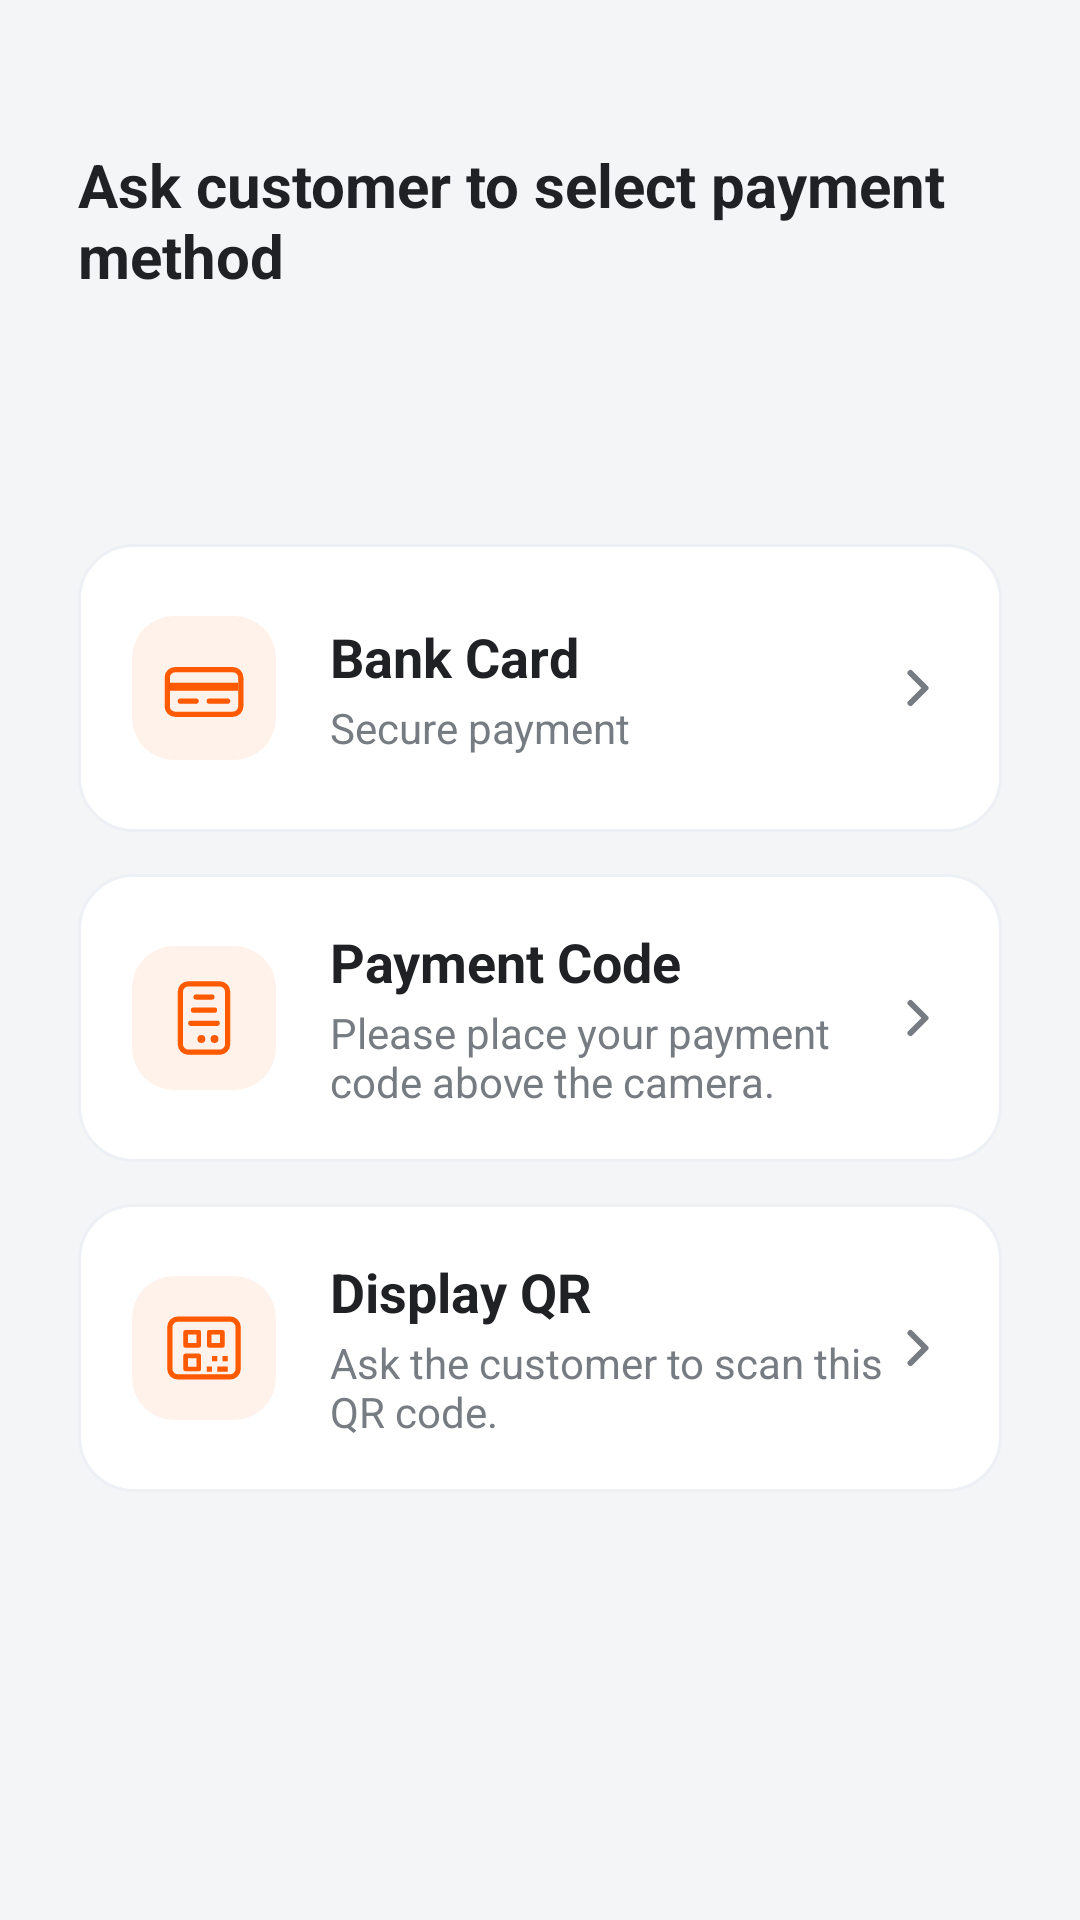

Point at icon controls on the screen. Image size 1080 × 1920, points as [x,y].
chevron right: [918,688], [918,1018], [918,1348]
payment card: [204,692]
payment qr display: [204,1348]
